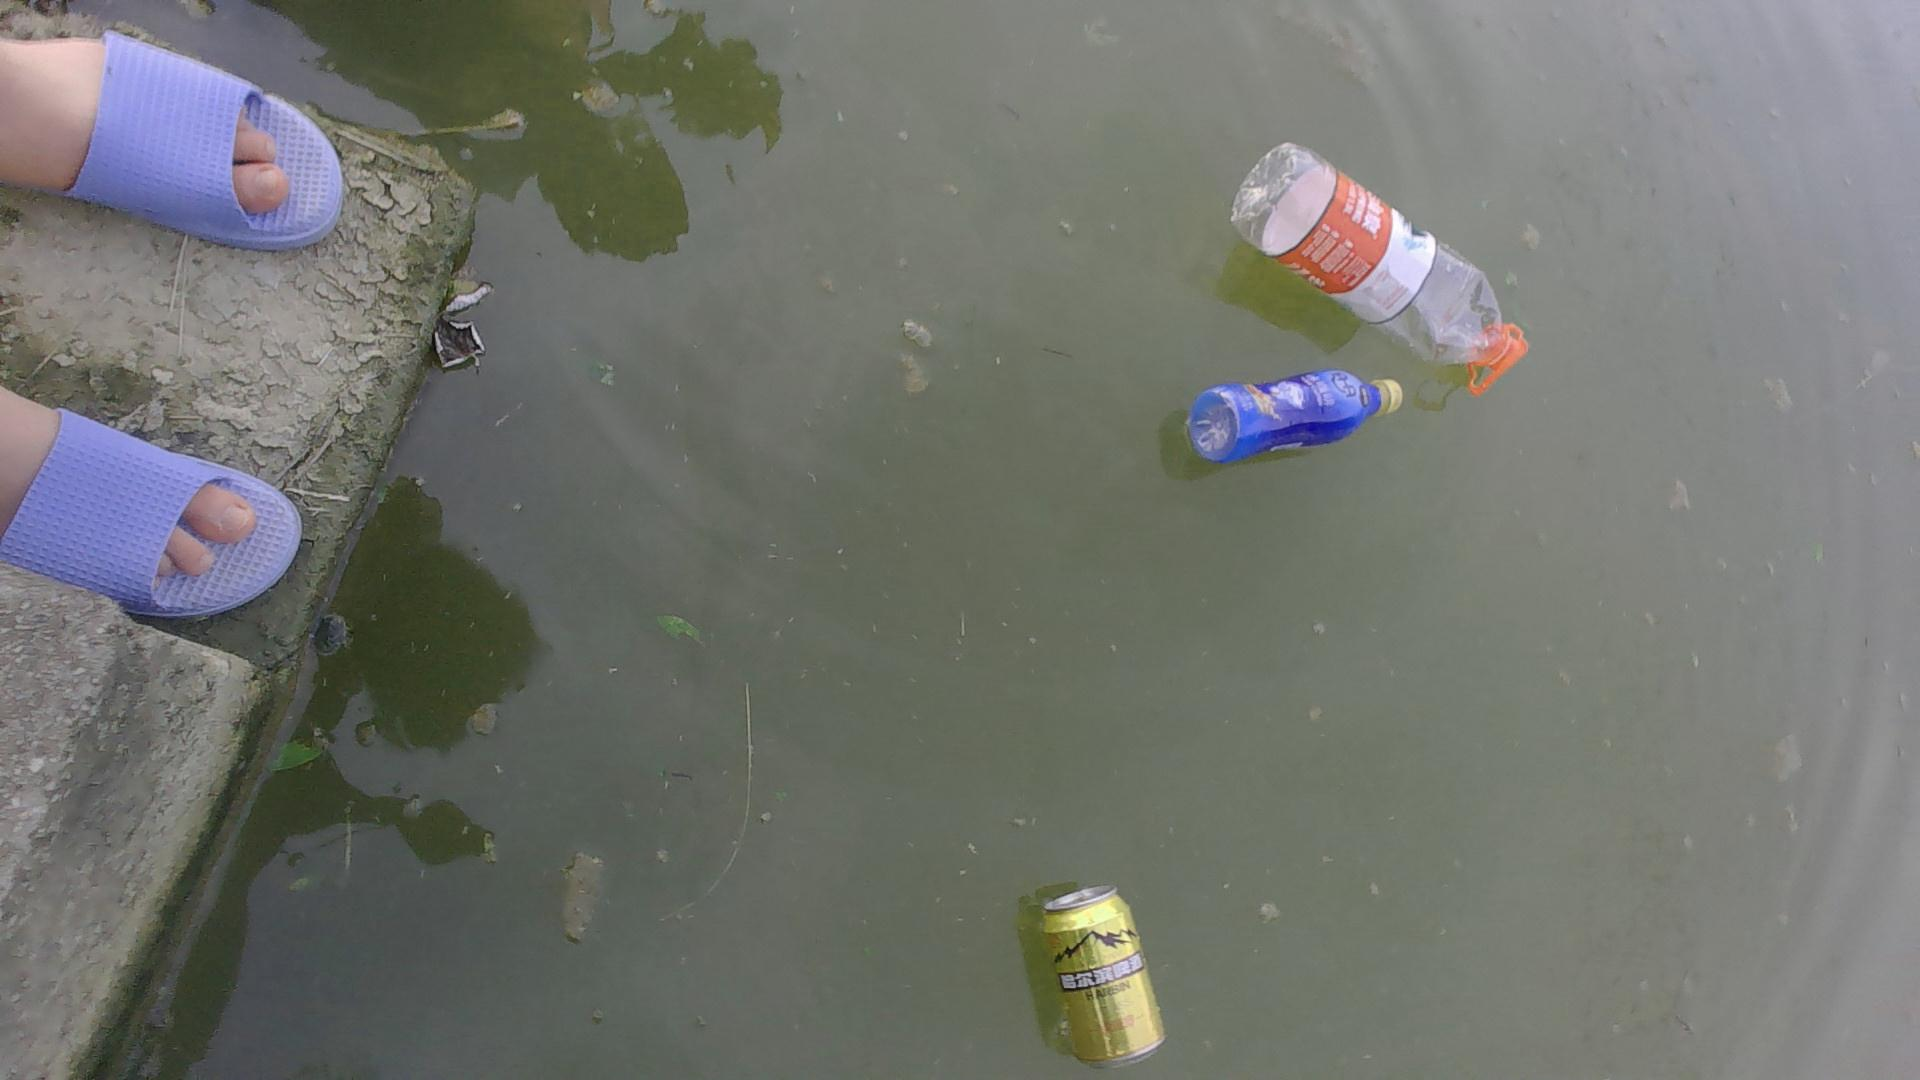Metal: (1022, 884, 1175, 1071)
Plastic: (1233, 140, 1544, 382), (1185, 363, 1411, 471)
